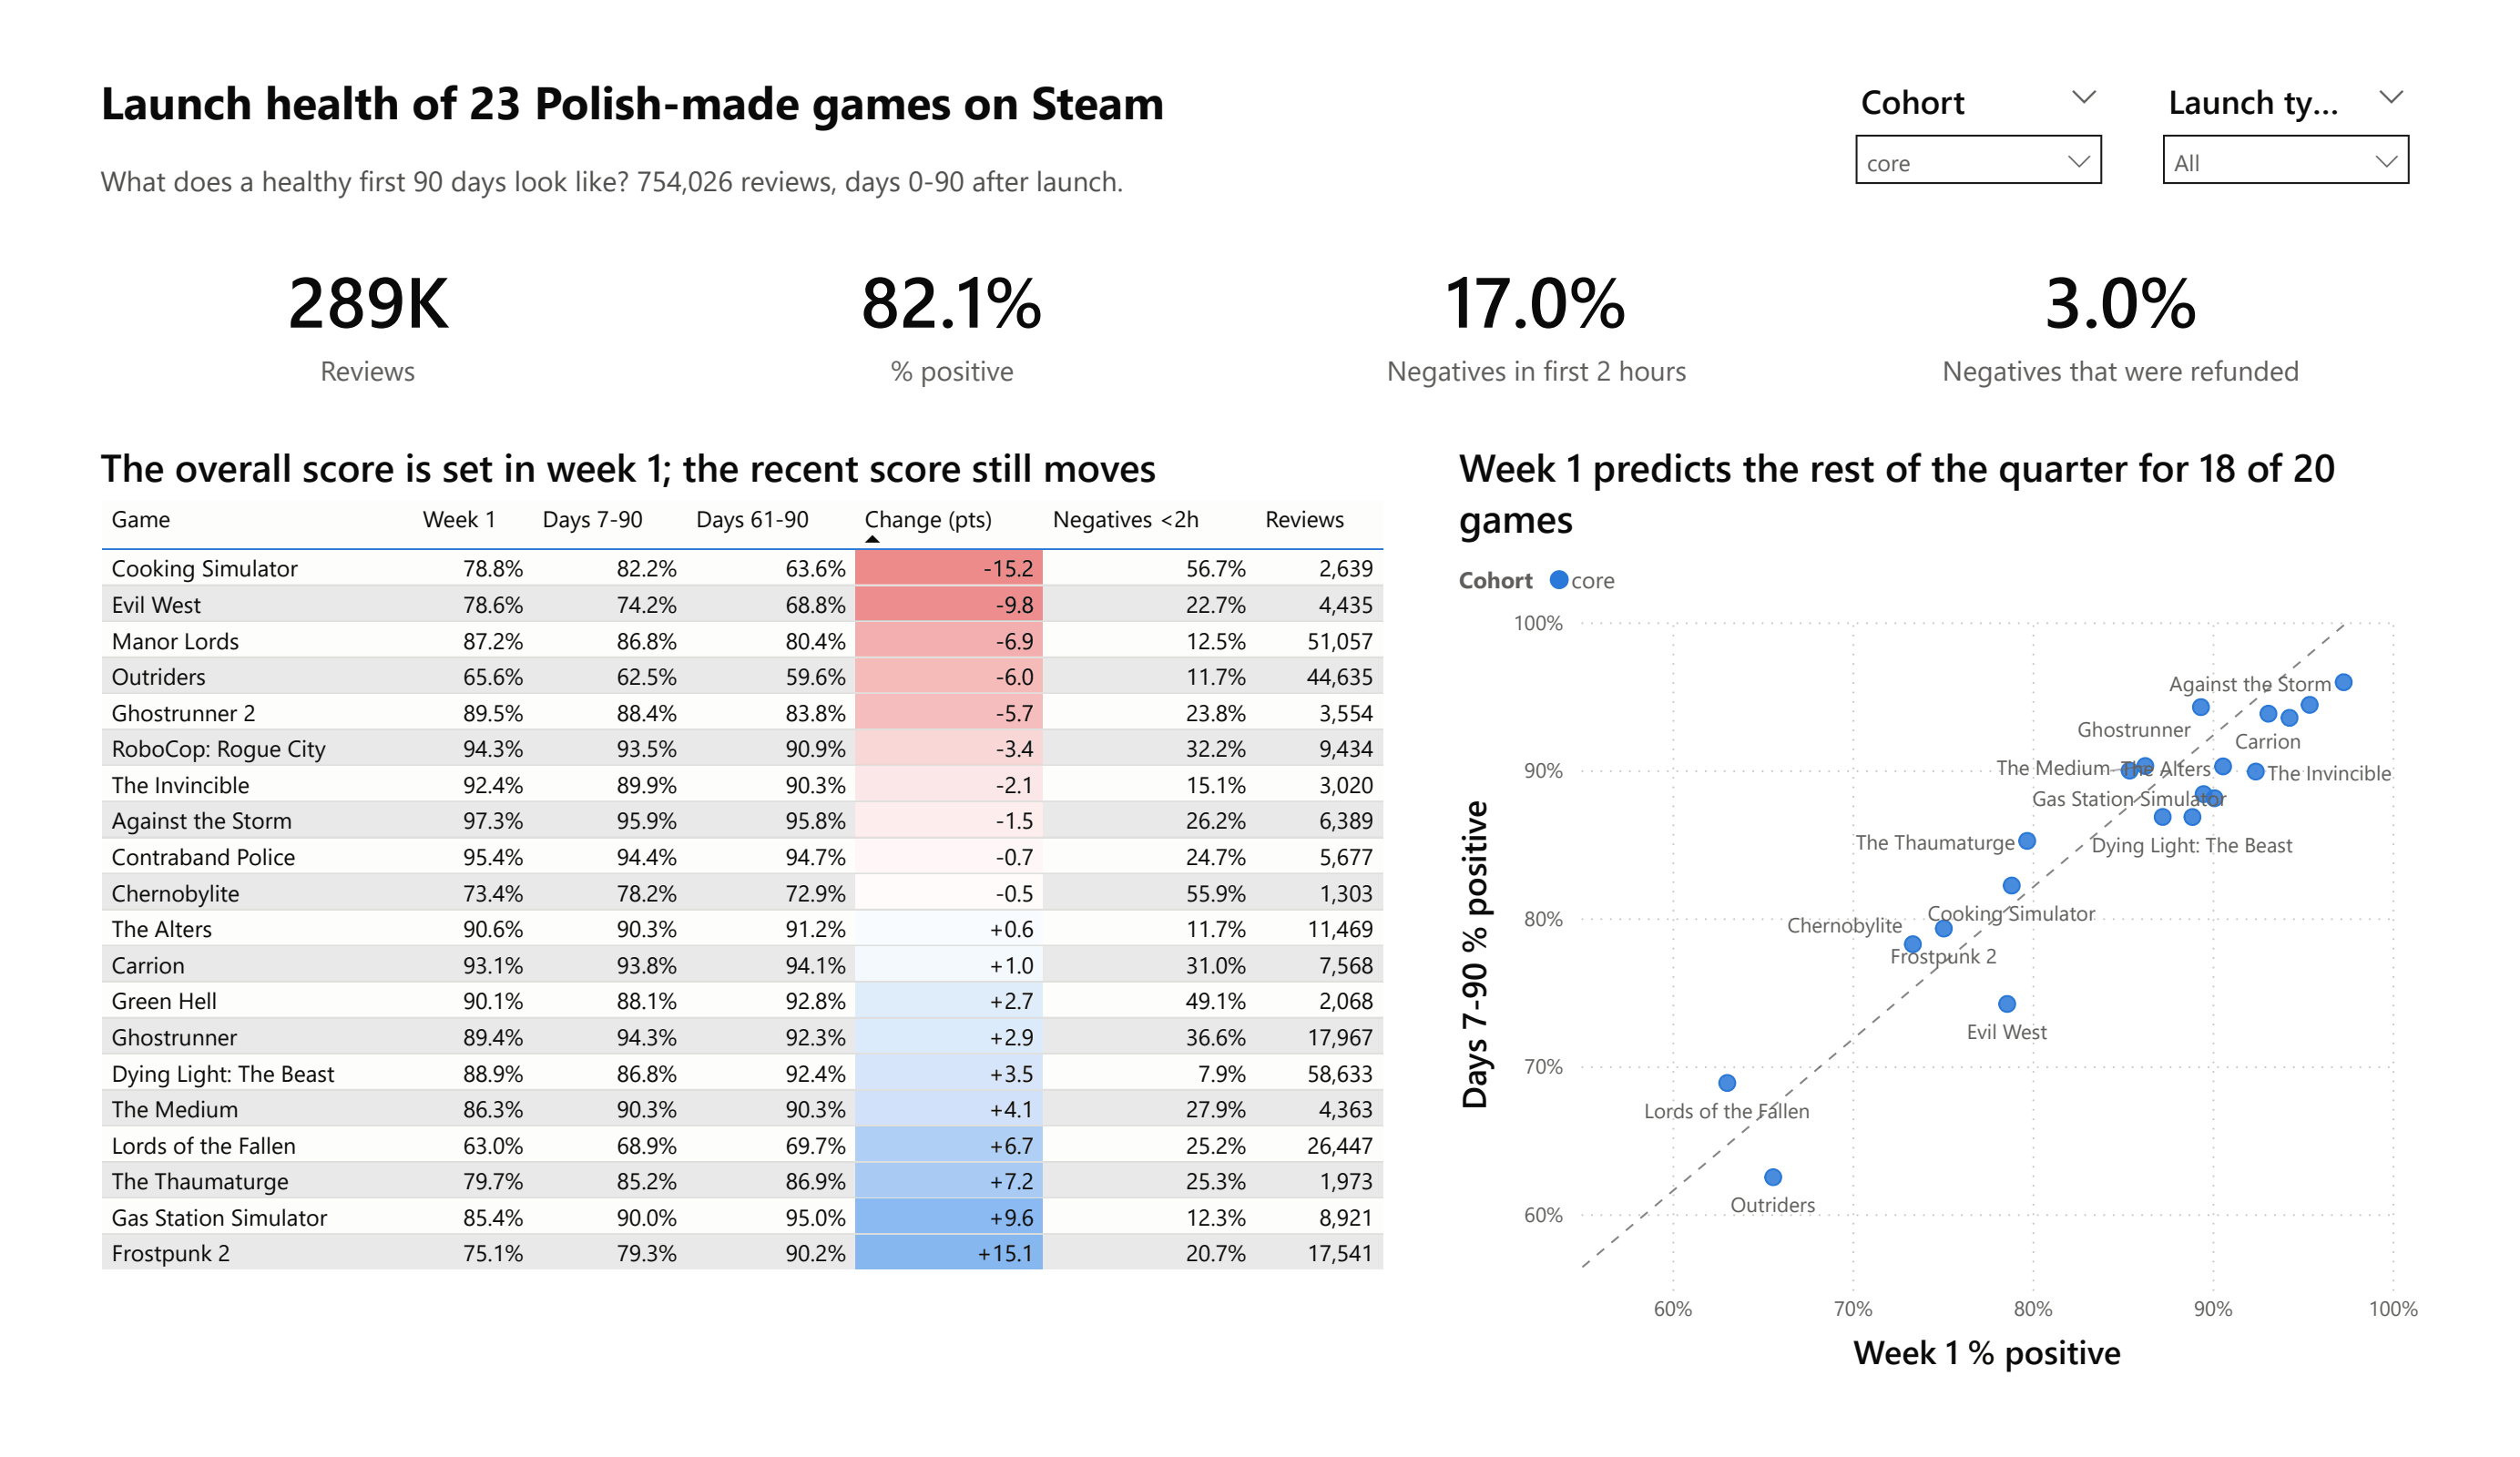

The dashboard page shown, as its layout file describes it:
{"tool":"powerbi","page":{"name":"Portfolio overview","canvas":[1280,720],"ordinal":0},"visuals":[{"type":"textbox","box":[24,8,900,52],"z":1000},{"type":"textbox","box":[24,56,900,34],"z":2000},{"type":"slicer","fields":{"Values":["dim_game.cohort"]},"box":[944,12,150,76],"z":3000},{"type":"slicer","fields":{"Values":["dim_game.launch_type"]},"box":[1106,12,150,76],"z":4000},{"type":"card","fields":{"Values":["_Measures.Reviews"]},"box":[24,96,292,96],"z":5000},{"type":"card","fields":{"Values":["_Measures.% Positive"]},"box":[332,96,292,96],"z":6000},{"type":"card","fields":{"Values":["_Measures.Early-Negative Share (0-2h)"]},"box":[640,96,292,96],"z":7000},{"type":"card","fields":{"Values":["_Measures.Refunded Share of Negatives"]},"box":[948,96,292,96],"z":8000},{"type":"tableEx","title":"The overall score is set in week 1; the recent score still moves","fields":{"Values":["dim_game.game","_Measures.Week-1 % Positive","_Measures.Days 7-90 % Positive","_Measures.Recent % Positive (days 61-90)","_Measures.Recent vs Week 1 (pts)","_Measures.Early-Negative Share (0-2h)","_Measures.Reviews"]},"box":[24,208,700,496],"z":9000},{"type":"scatterChart","title":"Week 1 predicts the rest of the quarter for 18 of 20 games","fields":{"Category":["dim_game.game"],"Series":["dim_game.cohort"],"X":["_Measures.Week-1 % Positive"],"Y":["_Measures.Days 7-90 % Positive"]},"box":[740,208,516,496],"z":10000}]}

Visuals, with their boxes on the page's 1280x720 design canvas (x1, y1, x2, y2). These are canvas units, not pixel positions in the 2520x1457 screenshot, which may show the page scaled, cropped or inside an application window:
textbox: [x1=24, y1=8, x2=924, y2=60]
textbox: [x1=24, y1=56, x2=924, y2=90]
slicer - dim_game.cohort: [x1=944, y1=12, x2=1094, y2=88]
slicer - dim_game.launch_type: [x1=1106, y1=12, x2=1256, y2=88]
card - _Measures.Reviews: [x1=24, y1=96, x2=316, y2=192]
card - _Measures.% Positive: [x1=332, y1=96, x2=624, y2=192]
card - _Measures.Early-Negative Share (0-2h): [x1=640, y1=96, x2=932, y2=192]
card - _Measures.Refunded Share of Negatives: [x1=948, y1=96, x2=1240, y2=192]
"The overall score is set in week 1; the recent score still moves" tableEx: [x1=24, y1=208, x2=724, y2=704]
"Week 1 predicts the rest of the quarter for 18 of 20 games" scatterChart: [x1=740, y1=208, x2=1256, y2=704]
